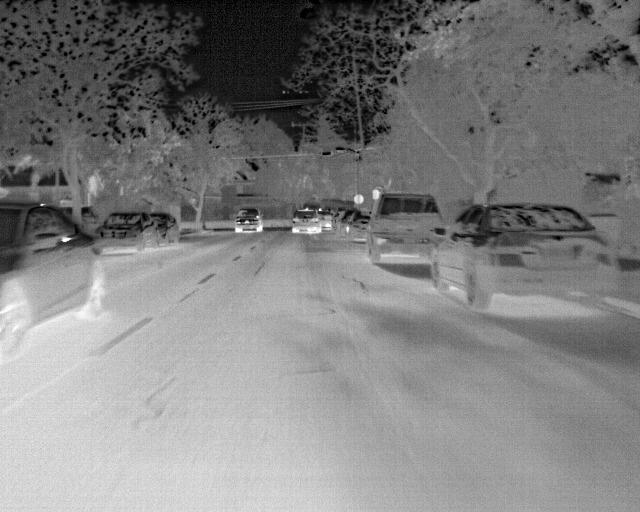car: (439, 172, 610, 342), (6, 184, 105, 335), (360, 175, 450, 274), (95, 201, 185, 260), (225, 198, 270, 236), (292, 197, 328, 236), (334, 204, 368, 240)
